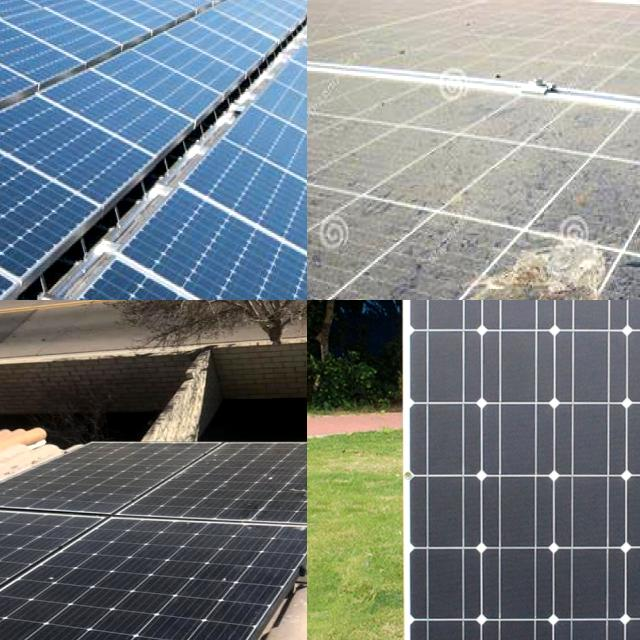bird: (453, 223, 640, 300)
crack: (412, 300, 640, 640), (107, 163, 307, 300), (0, 119, 144, 299), (0, 78, 161, 229), (42, 44, 197, 186), (186, 128, 307, 299), (88, 33, 234, 154), (209, 75, 307, 224), (136, 12, 266, 124)
dust: (266, 453, 307, 511)
